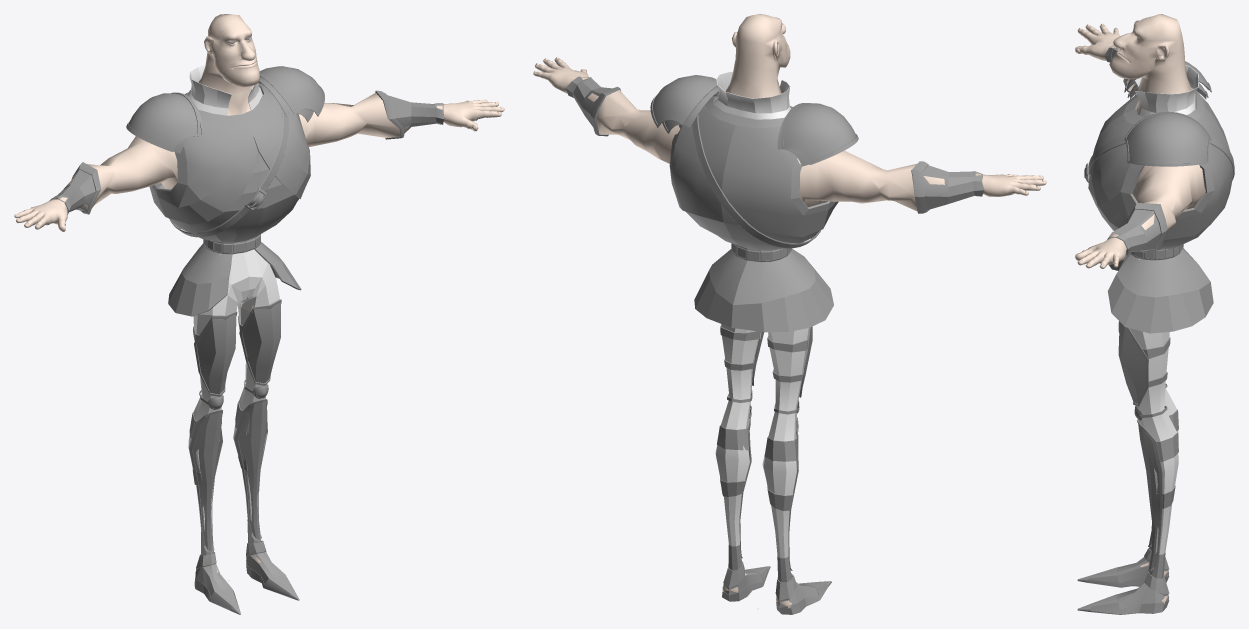
3 views of the same model, side by side, from view 1: azimuth 30°, elevation 25°; view 2: azimuth 150°, elevation 25°; view 3: azimuth 270°, elevation 25° (orthographic). The views are drawn at different scales.
Parts seen in each view (by area): view 1: soldier126, soldier120, soldier125, soldier124, soldier97, soldier104, soldier106, soldier112, soldier114, soldier99, soldier119, soldier100 (+4 smaller); view 2: soldier126, soldier120, soldier124, soldier125, soldier97, soldier95, soldier99, soldier123, soldier116, soldier103, soldier100, soldier105 (+2 smaller); view 3: soldier120, soldier126, soldier124, soldier99, soldier125, soldier118, soldier119, soldier106, soldier114, soldier123, soldier100, soldier105 (+4 smaller).
Boxes of the visible parts, <box> form: soldier126: <box>149,83,310,254</box>; soldier120: <box>14,14,504,575</box>; soldier125: <box>188,249,279,532</box>; soldier124: <box>168,242,301,316</box>; soldier97: <box>126,92,200,151</box>; soldier104: <box>189,410,222,552</box>; soldier106: <box>234,399,267,540</box>; soldier112: <box>194,312,237,396</box>; soldier114: <box>239,299,281,385</box>; soldier99: <box>259,66,324,116</box>; soldier119: <box>375,90,444,139</box>; soldier100: <box>194,552,240,614</box>; soldier126: <box>669,95,838,262</box>; soldier120: <box>533,14,1046,608</box>; soldier124: <box>694,248,833,332</box>; soldier125: <box>715,324,809,558</box>; soldier97: <box>781,103,858,164</box>; soldier95: <box>911,161,984,213</box>; soldier99: <box>650,75,717,127</box>; soldier123: <box>714,71,790,119</box>; soldier116: <box>692,93,820,248</box>; soldier103: <box>764,436,797,582</box>; soldier100: <box>775,573,831,614</box>; soldier105: <box>717,425,749,570</box>; soldier120: <box>1075,14,1205,604</box>; soldier126: <box>1088,91,1233,260</box>; soldier124: <box>1107,248,1213,333</box>; soldier99: <box>1124,111,1211,163</box>; soldier125: <box>1119,253,1178,554</box>; soldier118: <box>1077,572,1169,614</box>; soldier119: <box>1107,203,1167,255</box>; soldier106: <box>1137,419,1162,571</box>; soldier114: <box>1118,322,1148,406</box>; soldier123: <box>1135,65,1198,117</box>; soldier100: <box>1077,548,1169,587</box>; soldier105: <box>1149,432,1178,578</box>.
Bounding box in the file's own units: 25.13 × 28.16 × 7.
